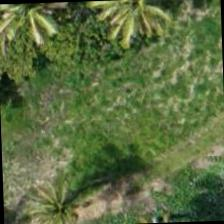Kelapa_Sawit: (18, 158, 112, 223), (89, 0, 182, 49), (0, 1, 75, 54)
